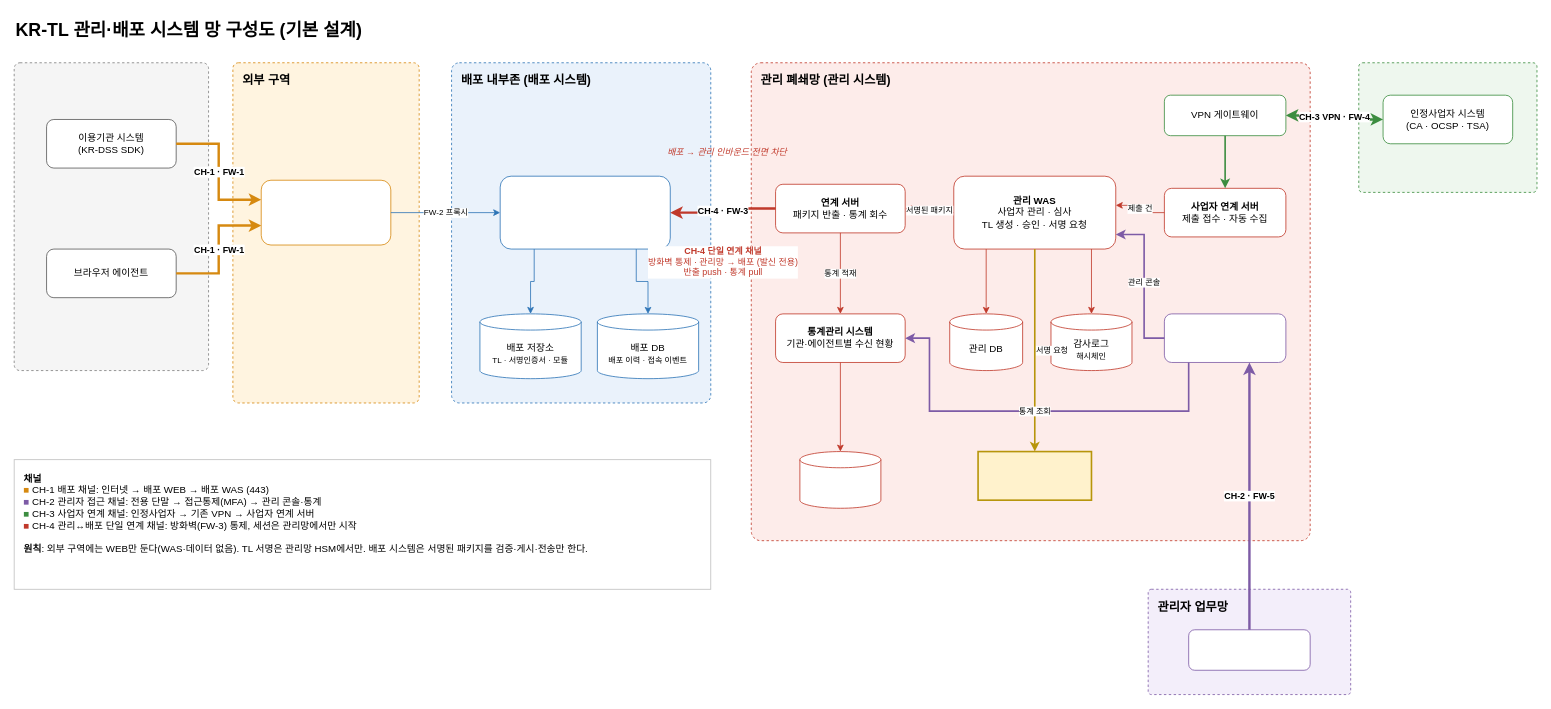
This 1551x709 diagram has some shape labels left out. Each missing label, with the box of its shape:
HSM TL 서명키 (반출 불가): (977, 450, 1092, 501)
관리자 전용 단말: (1188, 629, 1310, 670)
배포 WAS 다운로드 처리 · 이용기관 API 접속 통계 수집 · 연계 API (다운로드 :8443 / 연계 :9443 분리): (499, 175, 670, 249)
배포 WEB TLS 종단 · WAF 리버스 프록시 (데이터 없음): (260, 179, 391, 245)
인정사업자망: (1358, 62, 1537, 192)
인터넷: (13, 62, 209, 371)
접근통제 게이트웨이 MFA · 세션 기록: (1164, 313, 1286, 362)
통계 DB: (799, 451, 881, 508)
